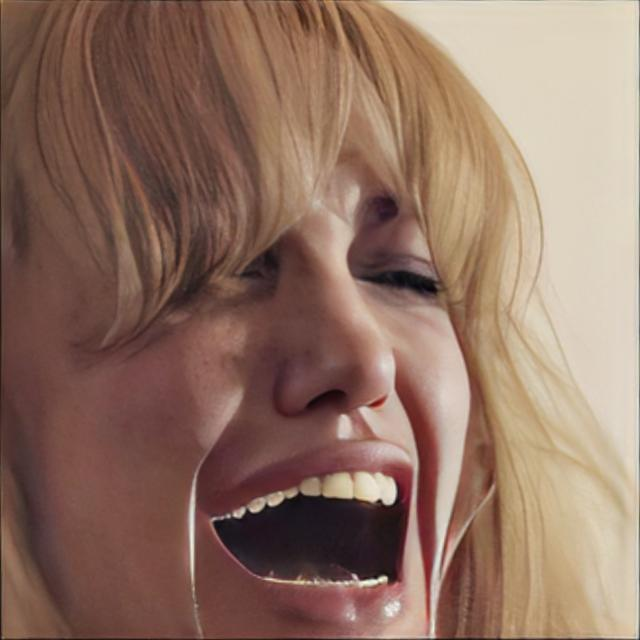fear: (15, 17, 472, 640)
